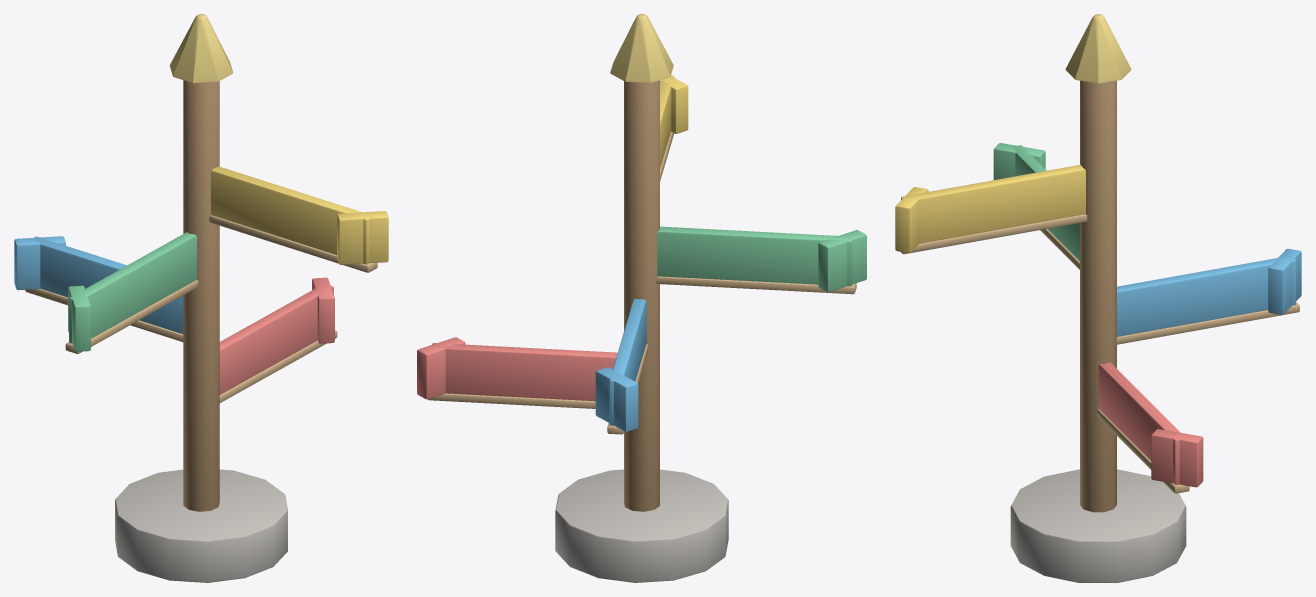
The model's file is th33_wegweiser.glb.
The picture shows the model from 3 angles, left to right: view 1: azimuth 30°, elevation 25°; view 2: azimuth 150°, elevation 25°; view 3: azimuth 270°, elevation 25°; orthographic projection.
Parts seen in each view (by area): view 1: Cylinder, Cylinder.001, Cube.009, Cube.006, Cube, Cube.003, Cone, Cube.010, Cube.004, Cube.011, Cube.007, Cube.001 (+3 smaller); view 2: Cylinder, Cylinder.001, Cube.006, Cube, Cone, Cube.007, Cube.004, Cube.003, Cube.001, Cube.008, Cube.002, Cube.010 (+1 smaller); view 3: Cylinder, Cylinder.001, Cube.009, Cube.003, Cube, Cone, Cube.001, Cube.004, Cube.011, Cube.005, Cube.010, Cube.006 (+2 smaller).
Part boxes in pixels (box(x1,y1,x2,y2)): Cylinder: box(115, 469, 287, 582); Cylinder.001: box(183, 80, 219, 511); Cube.009: box(211, 166, 371, 264); Cube.006: box(69, 232, 196, 343); Cube: box(219, 285, 333, 394); Cube.003: box(31, 236, 183, 333); Cone: box(169, 14, 233, 83); Cube.010: box(337, 211, 388, 264); Cube.004: box(14, 236, 65, 290); Cube.011: box(209, 215, 377, 272); Cube.007: box(68, 285, 90, 351); Cube.001: box(312, 277, 334, 343); Cylinder: box(555, 469, 728, 582); Cylinder.001: box(624, 80, 659, 511); Cube.006: box(657, 226, 852, 286); Cube: box(432, 343, 617, 401); Cone: box(610, 14, 673, 83); Cube.007: box(818, 230, 866, 292); Cube.004: box(595, 367, 638, 431); Cube.003: box(609, 299, 646, 425); Cube.001: box(417, 337, 465, 399); Cube.008: box(656, 276, 856, 294); Cube.002: box(428, 393, 595, 408); Cube.010: box(660, 76, 688, 133); Cylinder: box(1010, 469, 1186, 582); Cylinder.001: box(1080, 80, 1116, 512); Cube.009: box(901, 164, 1085, 243); Cube.003: box(1117, 256, 1295, 336); Cube: box(1098, 362, 1184, 484); Cone: box(1065, 14, 1131, 83); Cube.001: box(1151, 429, 1203, 487); Cube.004: box(1268, 248, 1301, 314); Cube.011: box(900, 214, 1087, 254); Cube.005: box(1116, 302, 1299, 344); Cube.010: box(895, 187, 928, 252); Cube.006: box(1012, 145, 1079, 260).
Bounding box in the file's own units: 2.41 × 3.48 × 2.41.
